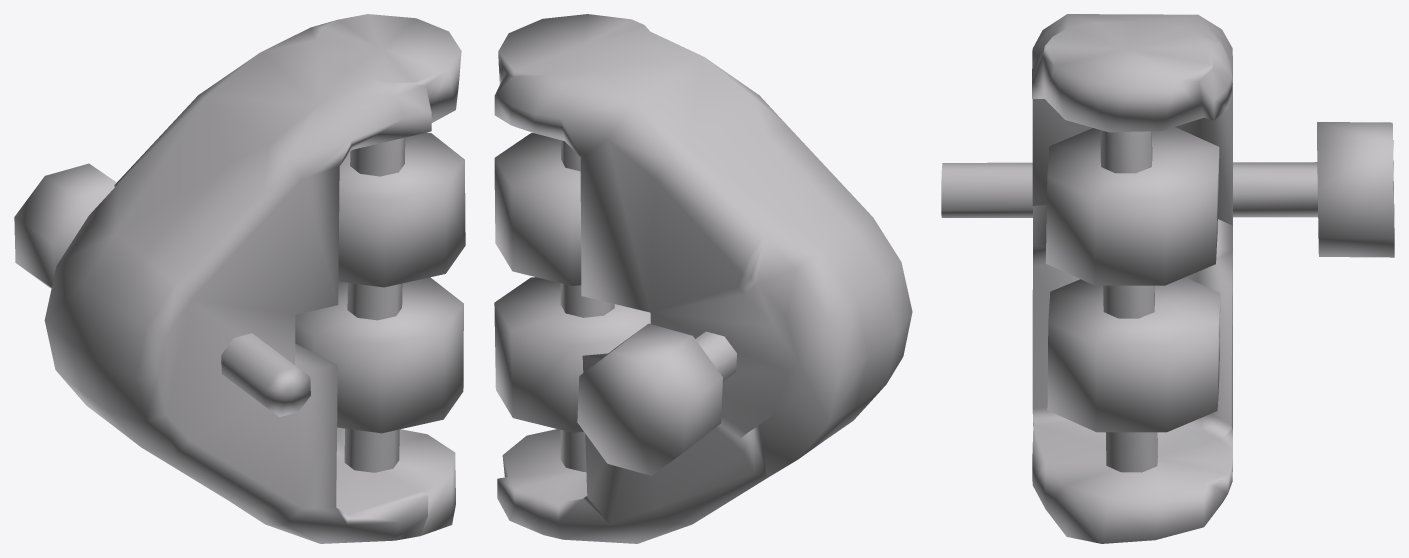
Rendered from Left_Thumb_Carp.dae.
3 views of the same model, side by side, from view 1: azimuth 30°, elevation 25°; view 2: azimuth 150°, elevation 25°; view 3: azimuth 270°, elevation 25° (orthographic).
Parts seen in each view (by area): view 1: Mesh; view 2: Mesh; view 3: Mesh.
Part boxes in pixels (<box>): Mesh: <box>14,14,465,543</box>; Mesh: <box>494,14,912,543</box>; Mesh: <box>941,14,1394,543</box>.
Size of the model in its own units: 0.0251 by 0.0302 by 0.0264.
1 material, 1 textured.
